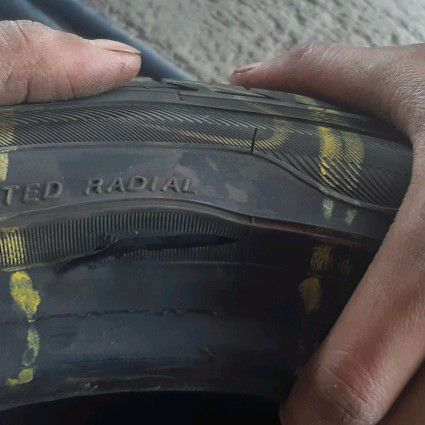cut: (57, 231, 237, 273)
